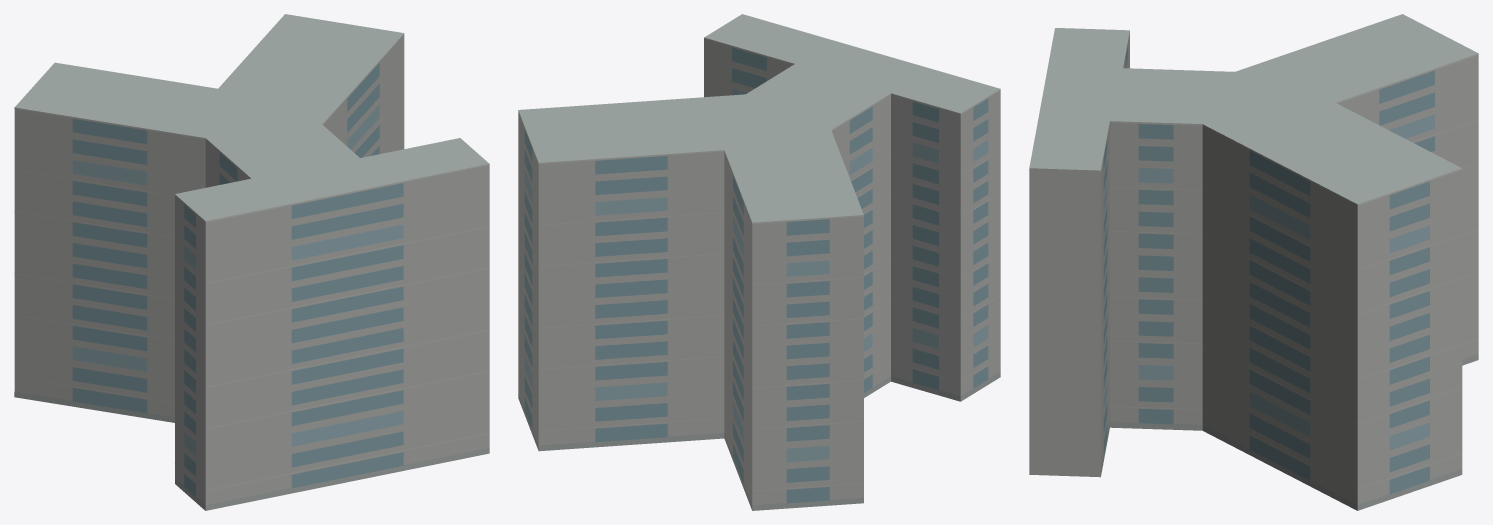
File: residential-ae9c985b-9422-4a28-b074-2df212ea2c3d.glb
The picture shows the model from 3 angles, left to right: view 1: azimuth 30°, elevation 25°; view 2: azimuth 150°, elevation 25°; view 3: azimuth 270°, elevation 25°; orthographic projection. The views are drawn at different scales.
Visible parts, largest first — view 1: residential-ae9c985b-9422-4a28-b074-2df212ea2c3d.tmp; view 2: residential-ae9c985b-9422-4a28-b074-2df212ea2c3d.tmp; view 3: residential-ae9c985b-9422-4a28-b074-2df212ea2c3d.tmp.
Boxes of the visible parts, x1,y1,x2,y2 form: residential-ae9c985b-9422-4a28-b074-2df212ea2c3d.tmp: [14, 14, 489, 510]; residential-ae9c985b-9422-4a28-b074-2df212ea2c3d.tmp: [518, 14, 1000, 510]; residential-ae9c985b-9422-4a28-b074-2df212ea2c3d.tmp: [1029, 14, 1478, 510].
Size of the model in its own units: 63.92 by 48 by 63.79.
